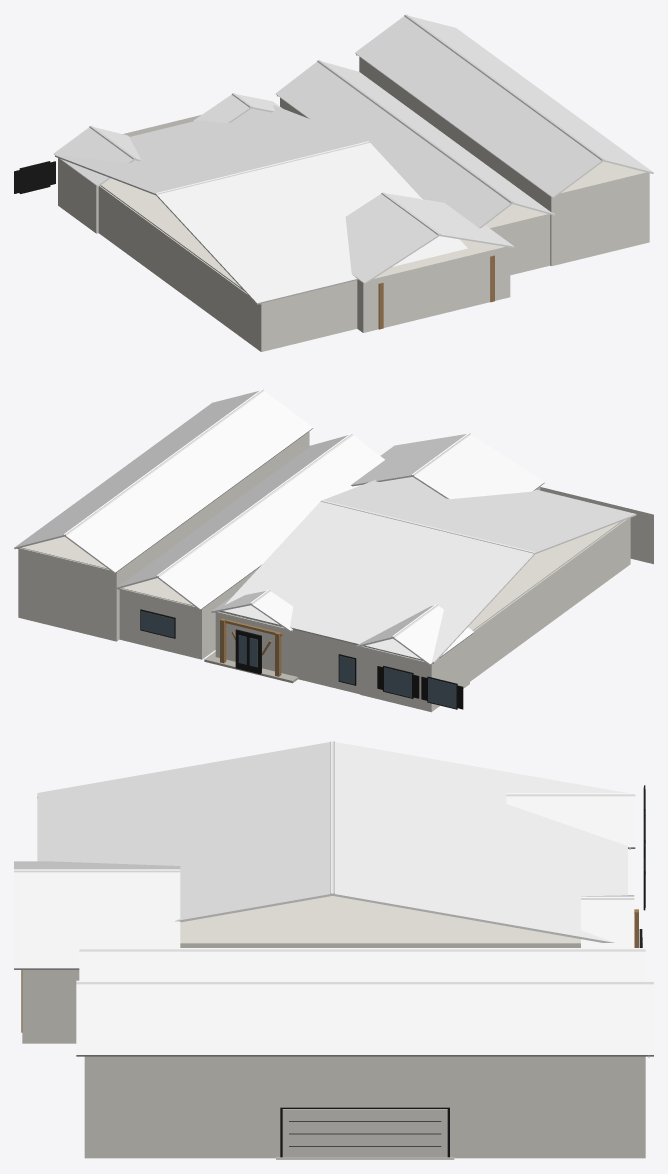
Rendered from whitestone-side.glb.
3 renders of one model, top to bottom at view 1: azimuth 30°, elevation 25°; view 2: azimuth 150°, elevation 25°; view 3: azimuth 270°, elevation 25°, orthographic. The views are drawn at different scales.
Visible parts, largest first — view 1: house-whitestone-side; view 2: house-whitestone-side; view 3: house-whitestone-side.
Part boxes in pixels (x1=…): house-whitestone-side: x1=14, y1=14, x2=653, y2=351; house-whitestone-side: x1=14, y1=389, x2=653, y2=712; house-whitestone-side: x1=14, y1=741, x2=653, y2=1159.
Size of the model in its own units: 28.67 by 5.99 by 24.41.
